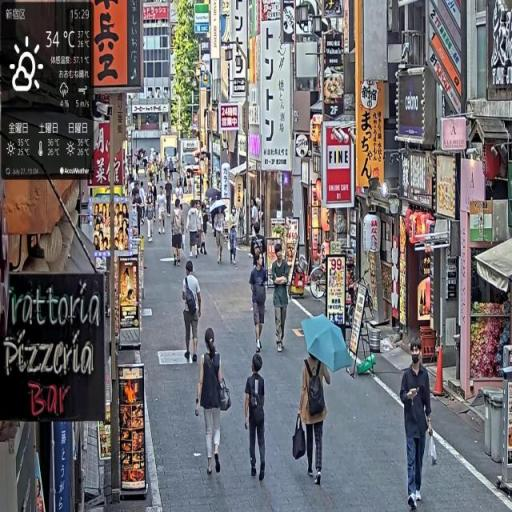person: (401, 336, 435, 511), (197, 327, 232, 478), (298, 352, 333, 488), (245, 354, 268, 484), (271, 243, 293, 357), (182, 259, 203, 365), (250, 247, 270, 356), (171, 198, 185, 269), (214, 204, 227, 265), (158, 188, 168, 236)
